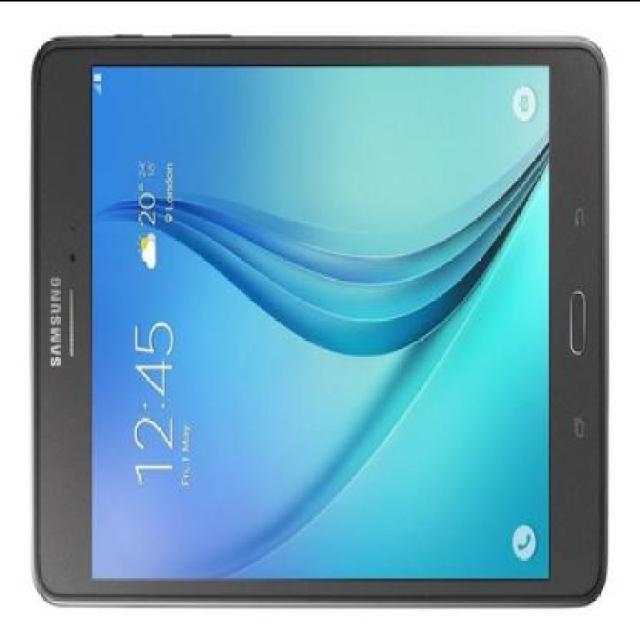tablet: (2, 15, 640, 607)
